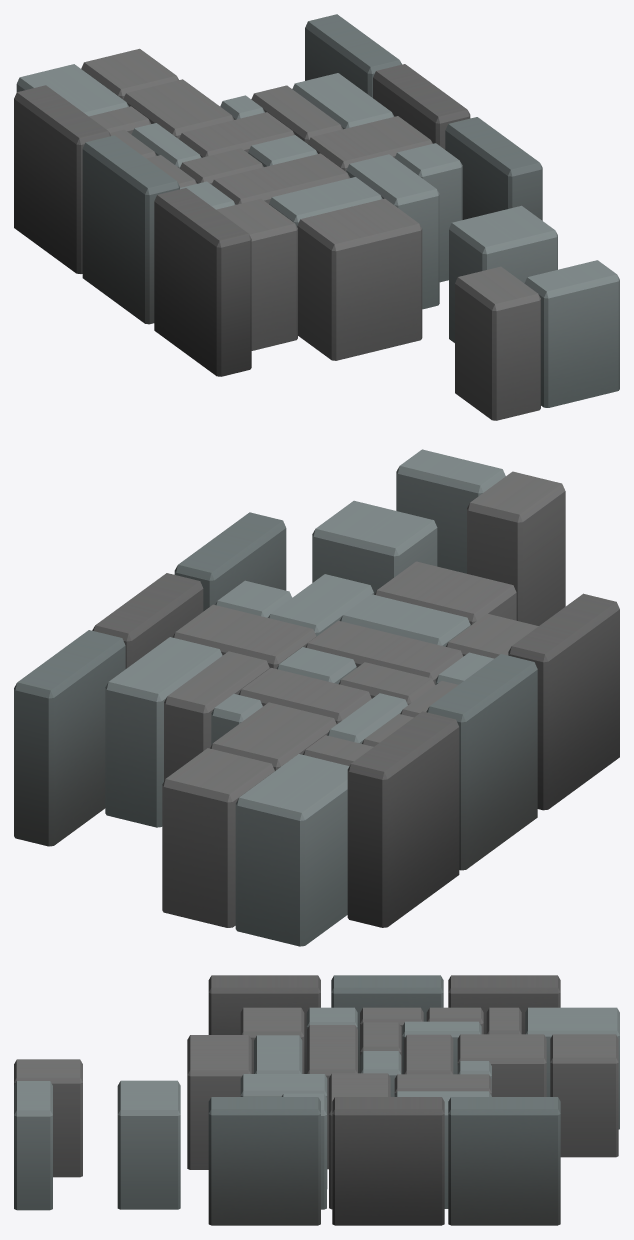
File: ZLP_Road_C_1.FBX
The picture shows the model from 3 angles, top to bottom: view 1: azimuth 30°, elevation 25°; view 2: azimuth 150°, elevation 25°; view 3: azimuth 270°, elevation 25°; orthographic projection. The views are drawn at different scales.
Visible parts, largest first — view 1: ZLP_Road_C_1; view 2: ZLP_Road_C_1; view 3: ZLP_Road_C_1.
Boxes of the visible parts, box(x1,y1,x2,y2) form: ZLP_Road_C_1: box(14, 14, 619, 420); ZLP_Road_C_1: box(14, 449, 619, 946); ZLP_Road_C_1: box(14, 975, 619, 1225).
Size of the model in its own units: 219 by 86.54 by 412.
